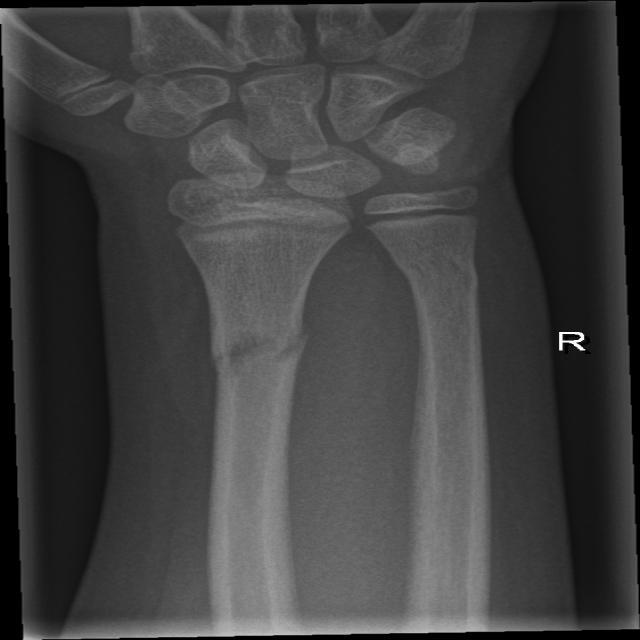radius fracture: (183, 281, 341, 506)
ulna fracture: (362, 239, 510, 489)
